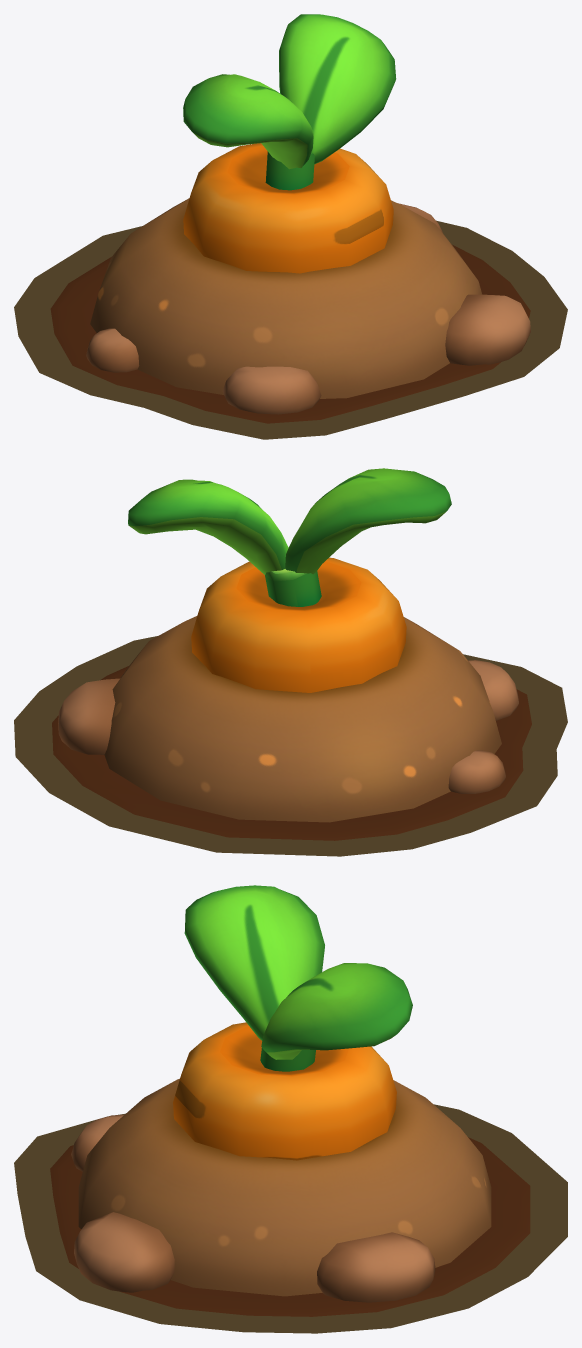
File: Carrot_L01.fbx
3 views of the same model, one above another, from view 1: azimuth 30°, elevation 25°; view 2: azimuth 150°, elevation 25°; view 3: azimuth 270°, elevation 25° (orthographic). The views are drawn at different scales.
Parts seen in each view (by area): view 1: Carrot01_body, Carrot01SDW; view 2: Carrot01_body, Carrot01SDW; view 3: Carrot01_body, Carrot01SDW.
Boxes of the visible parts, bbox=[...] form: Carrot01_body: bbox=[50, 14, 530, 423]; Carrot01SDW: bbox=[14, 220, 567, 439]; Carrot01_body: bbox=[52, 468, 531, 840]; Carrot01SDW: bbox=[14, 636, 567, 856]; Carrot01_body: bbox=[50, 885, 530, 1316]; Carrot01SDW: bbox=[14, 1104, 567, 1333].
Size of the model in its own units: 111 by 69.42 by 104.
2 materials, 1 textured.
